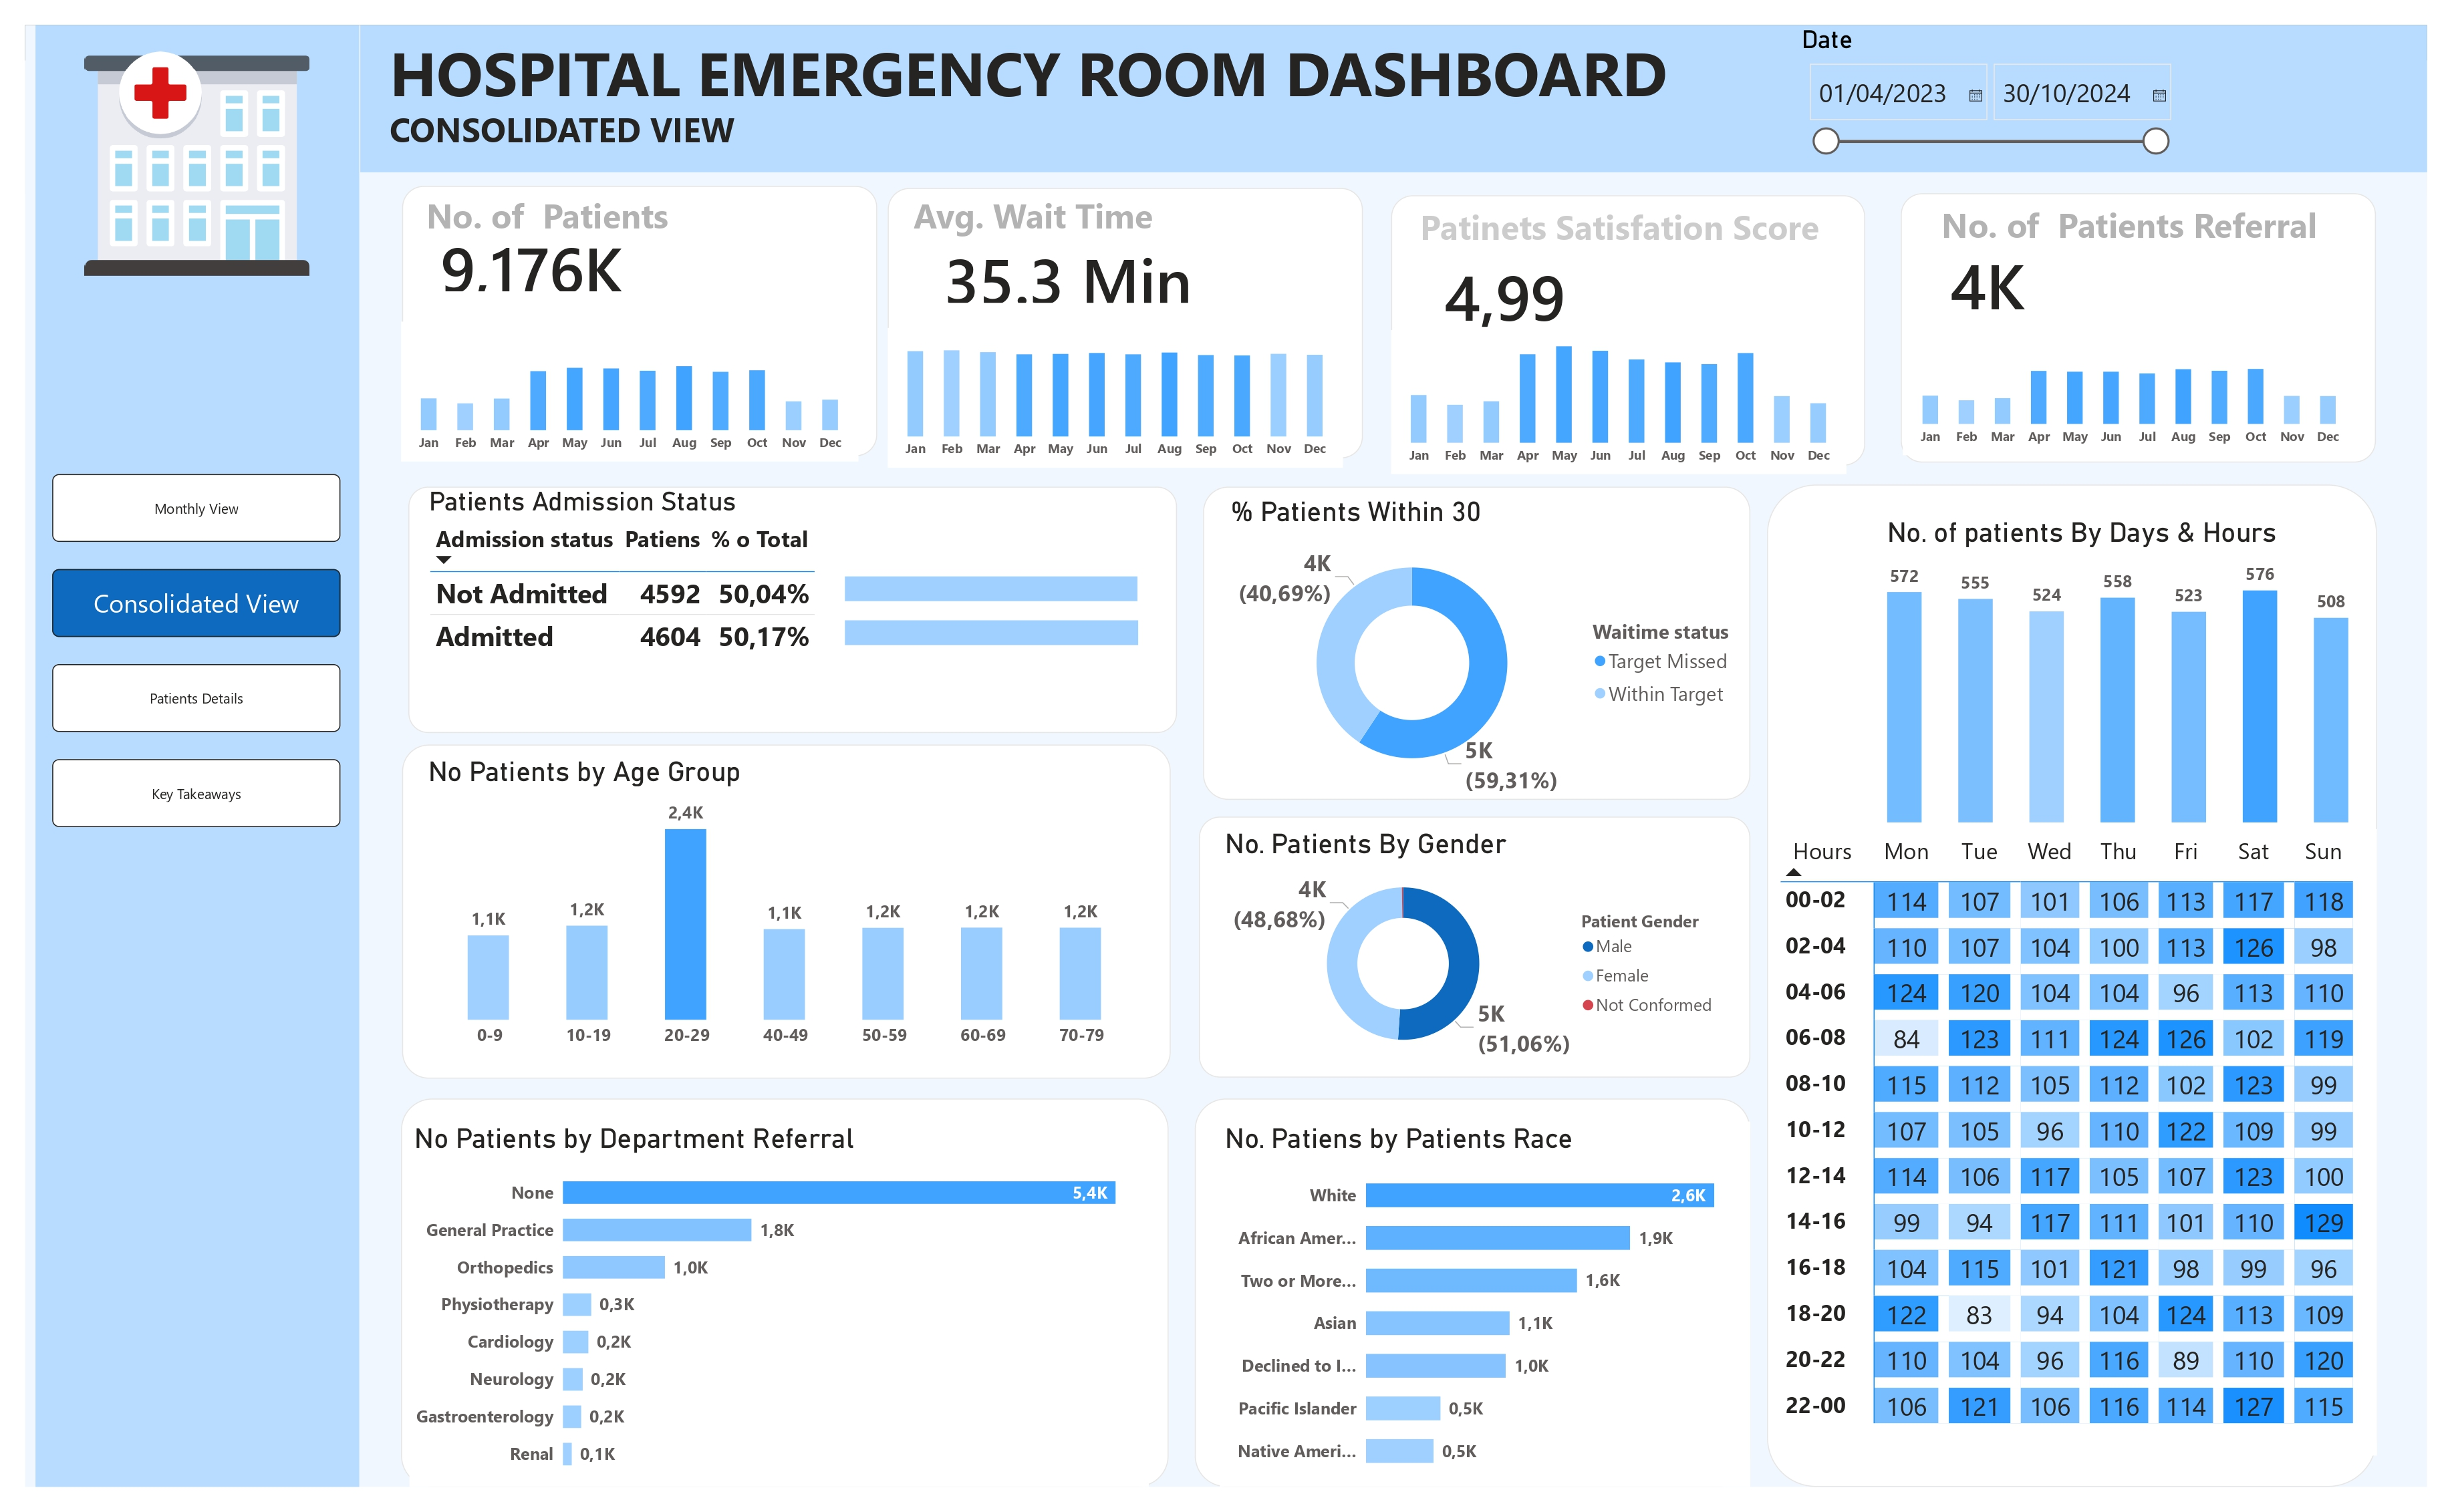

Layout of this report page (visuals, bound fields, positions):
{"tool":"powerbi","page":{"name":"Consolidated View","canvas":[2300,1400],"ordinal":1},"visuals":[{"type":"shape","box":[10.3,0,310,1400],"z":0},{"type":"shape","box":[320.5,0,1979.5,141],"z":1000},{"type":"textbox","box":[343.6,0,1323.1,159],"z":2000},{"type":"textbox","box":[344,72,392,70],"z":3000},{"type":"shape","box":[361,153.9,455,259],"z":4000},{"type":"cardVisual","fields":{"Data":["Hospital ER_Data.No Patiens"]},"box":[368,188,234,84],"z":5000},{"type":"slicer","title":"Date","fields":{"Values":["Hospital ER_Data.Patient Admission Date"]},"box":[1696,0,366,142],"z":6000},{"type":"textbox","box":[378.5,155.4,315.4,56.4],"z":7000},{"type":"columnChart","fields":{"Category":["Date Table.Month Name"],"Y":["Hospital ER_Data.No Patiens"]},"box":[360,284,438,134],"z":8000},{"type":"shape","box":[826.5,155.7,455,259],"z":9000},{"type":"cardVisual","fields":{"Data":["Hospital ER_Data.Avg Wait time"]},"box":[847.5,197.5,302.5,85],"z":10000},{"type":"textbox","box":[845.9,155.2,315.4,56.4],"z":11000},{"type":"columnChart","fields":{"Category":["Date Table.Month Name"],"Y":["Avg(Hospital ER_Data.Patient Waittime)"]},"box":[826,290,436,134],"z":12000},{"type":"shape","box":[1308.3,163.2,453.8,259],"z":13000},{"type":"cardVisual","fields":{"Data":["Hospital ER_Data.Patinets Satisfaction Score"]},"box":[1308,208,218,98],"z":14000},{"type":"shape","box":[1796,161.5,455,257.5],"z":15000},{"type":"textbox","box":[1331.3,165.8,412.8,56.4],"z":16000},{"type":"cardVisual","fields":{"Data":["Hospital ER_Data.No of patients Referral"]},"box":[1798,200,162,92],"z":17000},{"type":"columnChart","fields":{"Category":["Date Table.Month Name"],"Y":["Sum(Hospital ER_Data.Patient Satisfaction Score)"]},"box":[1308,292,436,138],"z":18000},{"type":"textbox","box":[1829.6,163.8,402.6,61.5],"z":19000},{"type":"columnChart","fields":{"Category":["Date Table.Month Name"],"Y":["Hospital ER_Data.No of patients Referral"]},"box":[1798,292,434,120],"z":20000},{"type":"shape","box":[367.2,442.1,735.9,235.9],"z":21000},{"type":"tableEx","title":"Patients Admission Status","fields":{"Values":["Hospital ER_Data.Admission status","Hospital ER_Data.No Patiens1","Hospital ER_Data.No Patiens"]},"box":[382.3,440.6,694.9,215.4],"z":22000},{"type":"shape","box":[361,688.8,735.9,320.5],"z":23000},{"type":"clusteredBarChart","fields":{"Category":["Hospital ER_Data.Admission status"],"Y":["Hospital ER_Data.No Patiens"]},"box":[779.7,494.5,315.4,128.2],"z":24000},{"type":"clusteredColumnChart","title":"No Patients by Age Group","fields":{"Category":["Hospital ER_Data.Age group"],"Y":["Hospital ER_Data.No Patiens"]},"box":[381.5,699.1,694.9,289.7],"z":25000},{"type":"shape","box":[360,1027.5,735,372.5],"z":26000},{"type":"clusteredBarChart","title":"No Patients by Department Referral","fields":{"Category":["Hospital ER_Data.Department Referral"],"Y":["Hospital ER_Data.No Patiens"]},"box":[368,1050,708,350],"z":27000},{"type":"shape","box":[1128,442,524,300],"z":28000},{"type":"donutChart","title":"% Patients  Within 30","fields":{"Y":["Hospital ER_Data.No Patiens"],"Category":["Hospital ER_Data.Waitime status"]},"box":[1150,450,502,292],"z":29000},{"type":"shape","box":[1124,758,528,250],"z":30000},{"type":"donutChart","title":"No. Patients By Gender","fields":{"Y":["Hospital ER_Data.No Patiens"],"Category":["Hospital ER_Data.Patient Gender"]},"box":[1144,768,486,232],"z":31000},{"type":"shape","box":[1120,1028,532,372],"z":32000},{"type":"clusteredBarChart","title":"No. Patiens by Patients Race","fields":{"Category":["Hospital ER_Data.Patient Race"],"Y":["Hospital ER_Data.No Patiens"]},"box":[1144,1050,508,350],"z":33000},{"type":"shape","box":[1668,440,584,960],"z":34000},{"type":"pivotTable","fields":{"Rows":["Hospital ER_Data.Wittime Interval"],"Columns":["Date Table.Name Days"],"Values":["Hospital ER_Data.No Patiens"]},"box":[1676,770,576,600],"z":35000},{"type":"columnChart","title":"No. of patients By Days &  Hours","fields":{"Y":["Hospital ER_Data.No of patients Referral"],"Category":["Date Table.Name Days"]},"box":[1778,470,454,300],"z":36000},{"type":"pageNavigator","box":[26,430,276,340],"z":37000},{"type":"image","box":[37.5,25,252.5,215],"z":37001}]}

Visuals, with their boxes on the page's 2300x1400 design canvas (x1, y1, x2, y2). These are canvas units, not pixel positions in the 2452x1512 screenshot, which may show the page scaled, cropped or inside an application window:
shape: 10,0,320,1400
shape: 320,0,2300,141
textbox: 344,0,1667,159
textbox: 344,72,736,142
shape: 361,154,816,413
cardVisual - Hospital ER_Data.No Patiens: 368,188,602,272
"Date" slicer: 1696,0,2062,142
textbox: 378,155,694,212
columnChart - Date Table.Month Name x Hospital ER_Data.No Patiens: 360,284,798,418
shape: 826,156,1282,415
cardVisual - Hospital ER_Data.Avg Wait time: 848,198,1150,282
textbox: 846,155,1161,212
columnChart - Date Table.Month Name x Avg(Hospital ER_Data.Patient Waittime): 826,290,1262,424
shape: 1308,163,1762,422
cardVisual - Hospital ER_Data.Patinets Satisfaction Score: 1308,208,1526,306
shape: 1796,162,2251,419
textbox: 1331,166,1744,222
cardVisual - Hospital ER_Data.No of patients Referral: 1798,200,1960,292
columnChart - Date Table.Month Name x Sum(Hospital ER_Data.Patient Satisfaction Score): 1308,292,1744,430
textbox: 1830,164,2232,225
columnChart - Date Table.Month Name x Hospital ER_Data.No of patients Referral: 1798,292,2232,412
shape: 367,442,1103,678
"Patients Admission Status" tableEx: 382,441,1077,656
shape: 361,689,1097,1009
clusteredBarChart - Hospital ER_Data.Admission status x Hospital ER_Data.No Patiens: 780,494,1095,623
"No Patients by Age Group" clusteredColumnChart: 382,699,1076,989
shape: 360,1028,1095,1400
"No Patients by Department Referral" clusteredBarChart: 368,1050,1076,1400
shape: 1128,442,1652,742
"% Patients  Within 30" donutChart: 1150,450,1652,742
shape: 1124,758,1652,1008
"No. Patients By Gender" donutChart: 1144,768,1630,1000
shape: 1120,1028,1652,1400
"No. Patiens by Patients Race" clusteredBarChart: 1144,1050,1652,1400
shape: 1668,440,2252,1400
pivotTable - Hospital ER_Data.Wittime Interval x Date Table.Name Days: 1676,770,2252,1370
"No. of patients By Days &  Hours" columnChart: 1778,470,2232,770
pageNavigator: 26,430,302,770
image: 38,25,290,240
